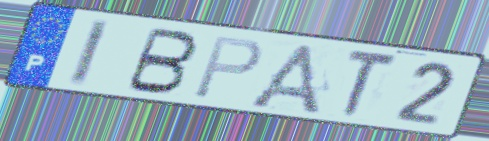2: (391, 61, 458, 128)
A: (244, 42, 324, 118)
B: (121, 25, 201, 97)
I: (65, 17, 114, 89)
P: (190, 35, 267, 101)
T: (340, 47, 401, 120)
